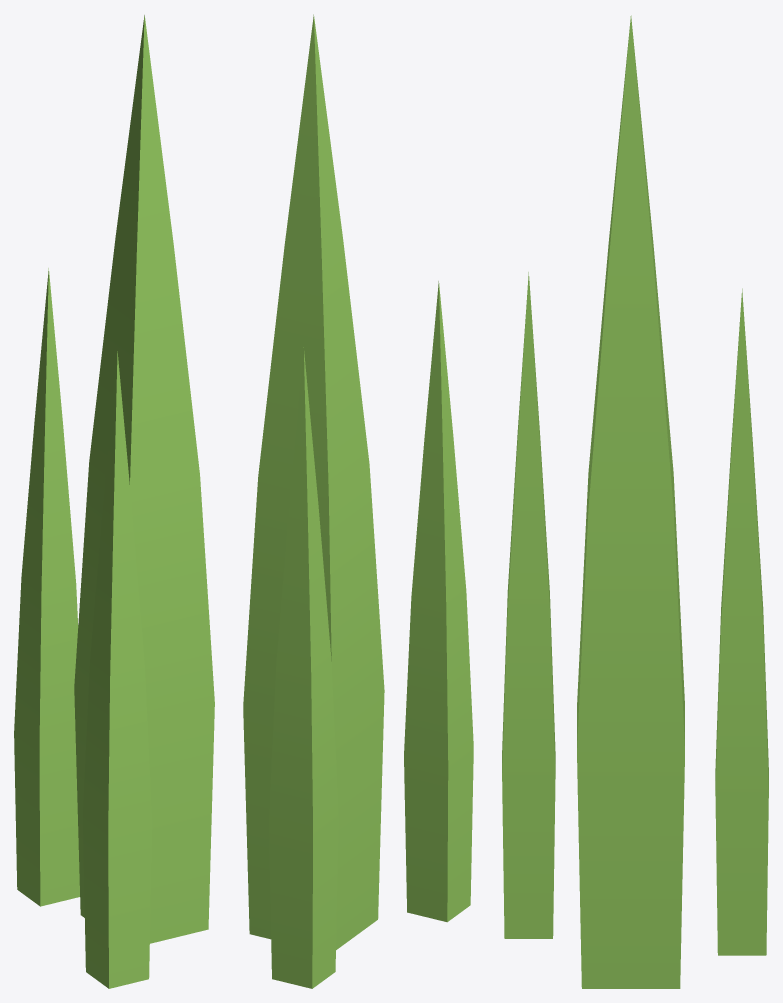
File: Grass_v3.fbx
3 views of the same model, side by side, from view 1: azimuth 30°, elevation 25°; view 2: azimuth 150°, elevation 25°; view 3: azimuth 270°, elevation 25° (orthographic). The views are drawn at different scales.
Parts seen in each view (by area): view 1: pCube1, pCube2, pCube3; view 2: pCube1, pCube3, pCube2; view 3: pCube1, pCube3, pCube2.
Part boxes in pixels (left/top/right/bottom): pCube1: left=74, top=15, right=214, bottom=943; pCube2: left=82, top=350, right=152, bottom=988; pCube3: left=14, top=268, right=79, bottom=906; pCube1: left=243, top=14, right=384, bottom=949; pCube3: left=269, top=347, right=338, bottom=988; pCube2: left=404, top=281, right=473, bottom=922; pCube1: left=577, top=15, right=684, bottom=988; pCube3: left=715, top=288, right=768, bottom=955; pCube2: left=502, top=272, right=555, bottom=938.
Size of the model in its own units: 0.8091 by 4.93 by 1.25.
